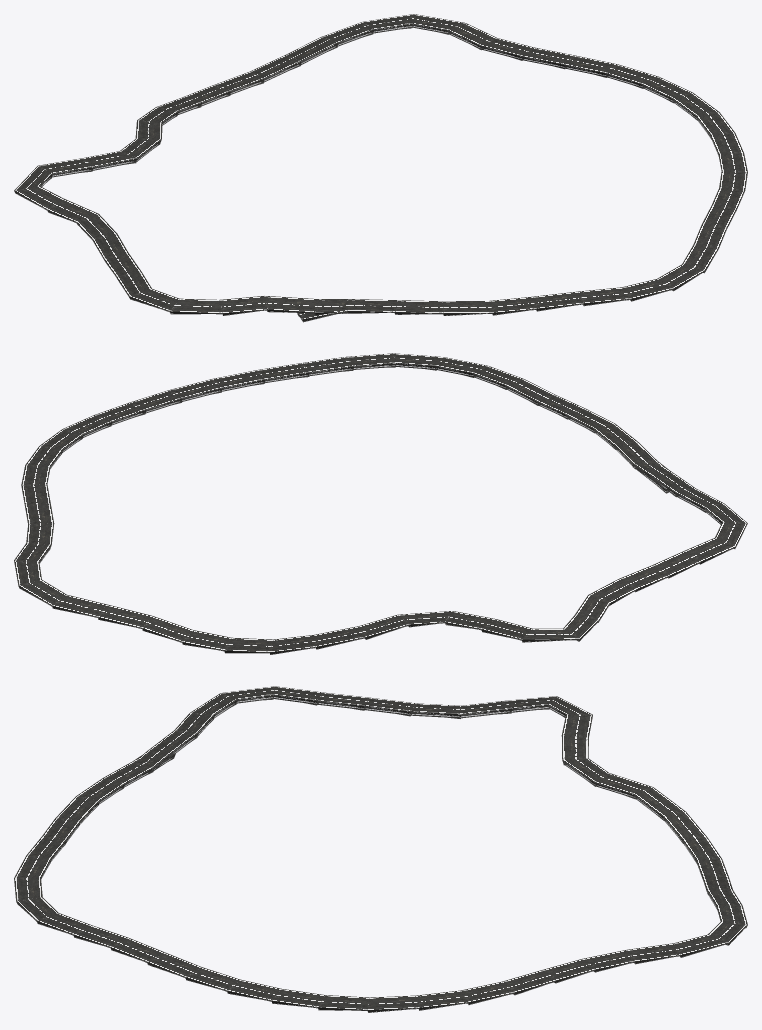
File: streetCollider 1.fbx
3 renders of one model, top to bottom at view 1: azimuth 30°, elevation 25°; view 2: azimuth 150°, elevation 25°; view 3: azimuth 270°, elevation 25°, orthographic. The views are drawn at different scales.
Visible parts, largest first — view 1: mesh; view 2: mesh; view 3: mesh.
Part boxes in pixels (left/top/right/bottom): mesh: left=14, top=14, right=747, bottom=322; mesh: left=14, top=353, right=747, bottom=654; mesh: left=14, top=686, right=747, bottom=1012.
Size of the model in its own units: 2554 by 118 by 2471.
